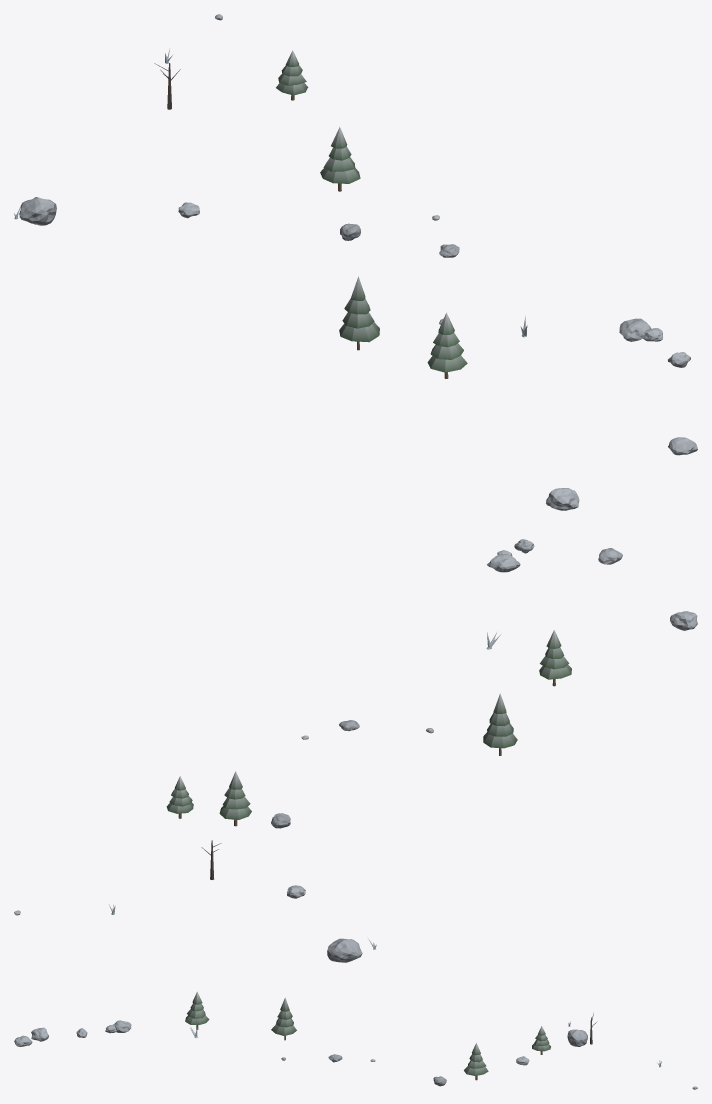
Rendered from frost_land_scatter_c11_12.glb.
The picture shows the model from 3 angles, top to bottom: view 1: azimuth 30°, elevation 25°; view 2: azimuth 150°, elevation 25°; view 3: azimuth 270°, elevation 25°; orthographic projection. The views are drawn at different scales.
Visible parts, largest first — view 1: frost_land_scatter_c11_12; view 2: frost_land_scatter_c11_12; view 3: frost_land_scatter_c11_12.
Part boxes in pixels (x1,y1,x2,y2): frost_land_scatter_c11_12: (14,14,697,510); frost_land_scatter_c11_12: (14,539,697,962); frost_land_scatter_c11_12: (14,991,697,1089).
Bounding box in the file's own units: 51.83 × 22.13 × 167.
